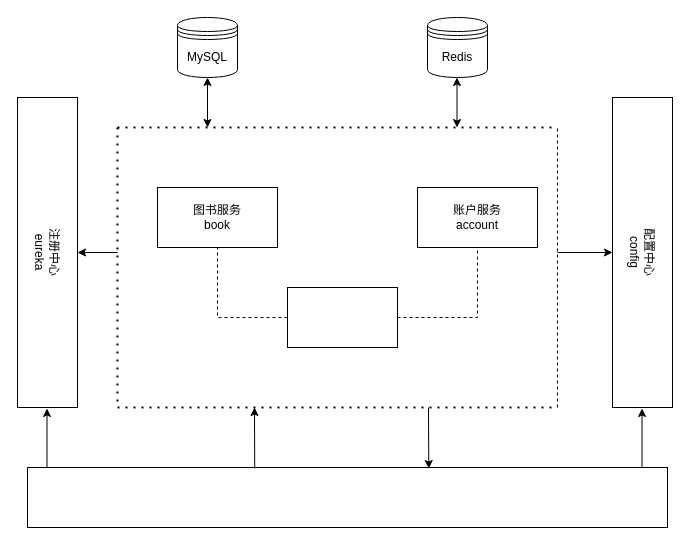
The diagram is 690 pixels wide and 545 high, and some of its shapes have lost their labels. The centre of each missing label's shape, as x and y in pixels:
Fegin客户端 fegin-client: the point at 342,317
服务网关 gateway: the point at 347,497
